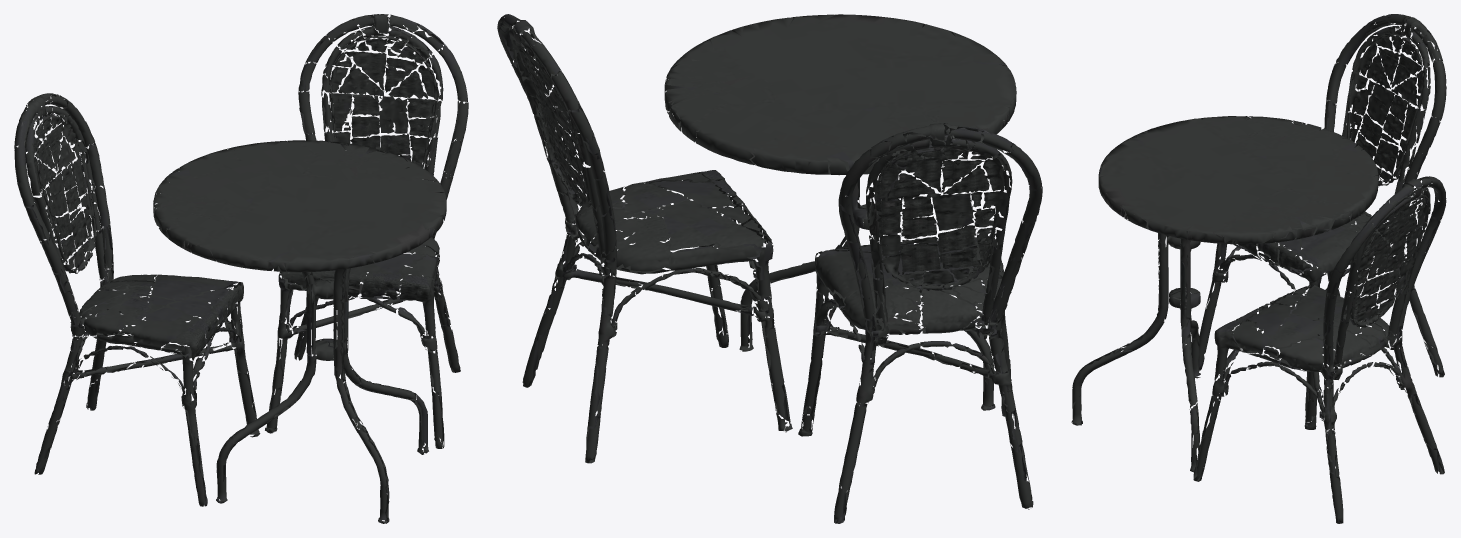
Rendered from cafe-set.glb.
The picture shows the model from 3 angles, left to right: view 1: azimuth 30°, elevation 25°; view 2: azimuth 150°, elevation 25°; view 3: azimuth 270°, elevation 25°; orthographic projection. The views are drawn at different scales.
Bounding box in the file's own units: 1.9 × 1.39 × 1.45.
1 material, 1 textured.
